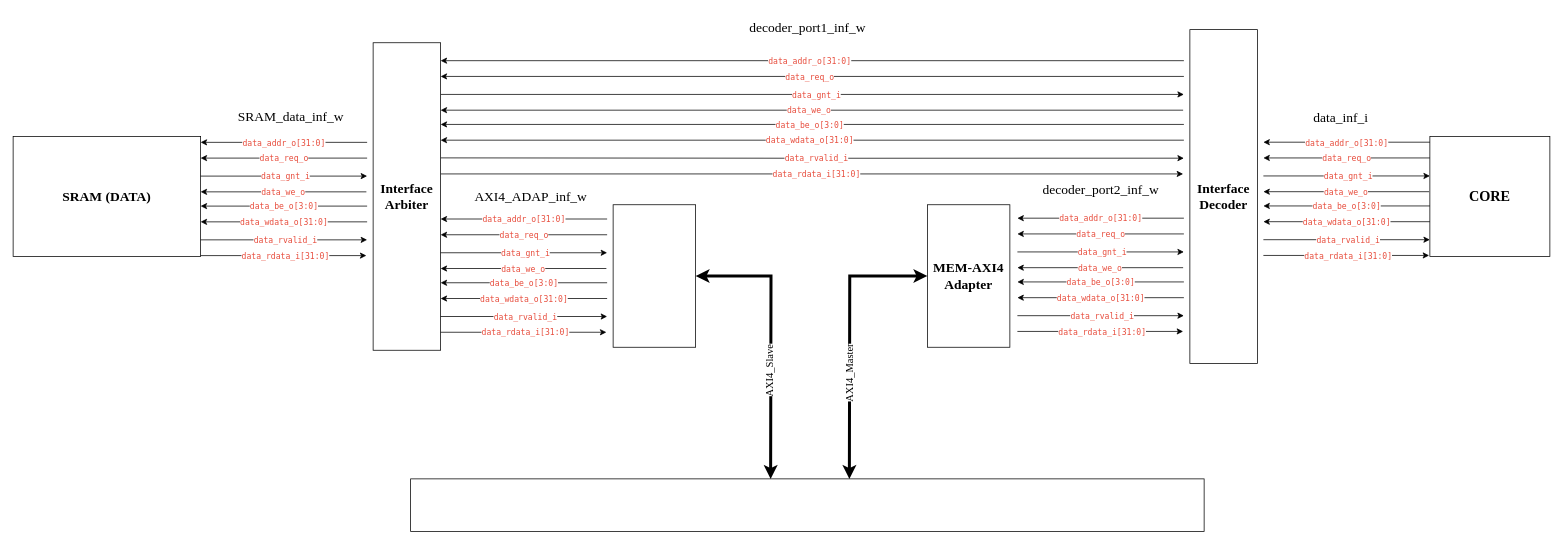
Image size: 1563x545. Some labels were removed from this diagram. The box of each missing label's shape, as (x1, y1, x2, y2) in pixels:
AXI4: (410, 478, 1204, 531)
AXI4-MEM Adapter: (612, 204, 696, 347)
